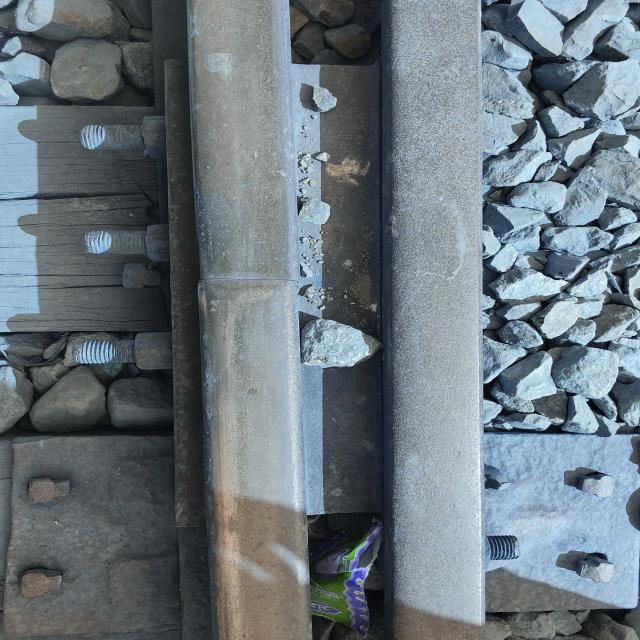Defective Joint: (71, 23, 362, 514)
